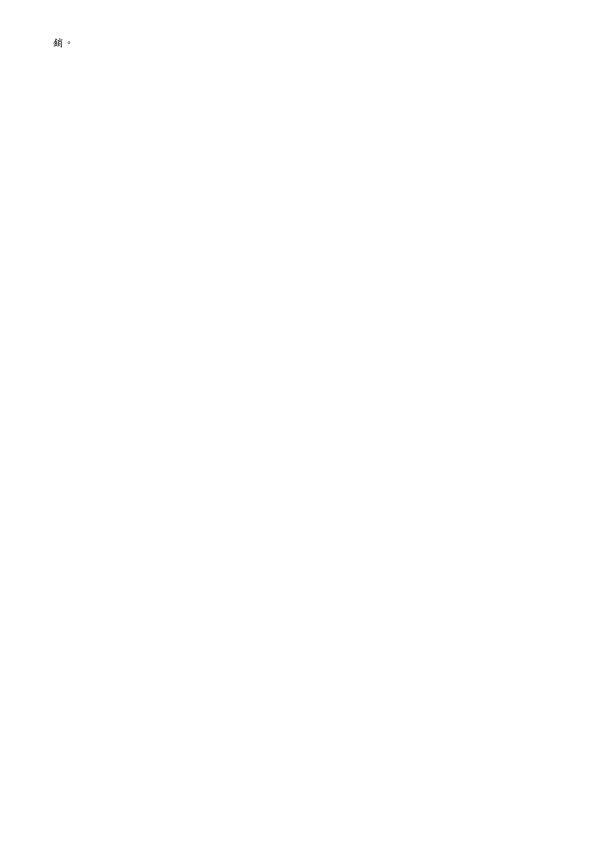text: (49, 33, 74, 50)
